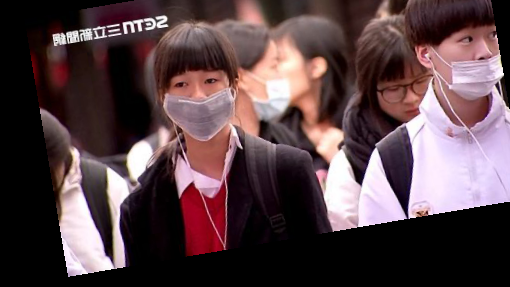mask_weared_incorrect: (148, 19, 251, 144), (399, 1, 508, 116)
